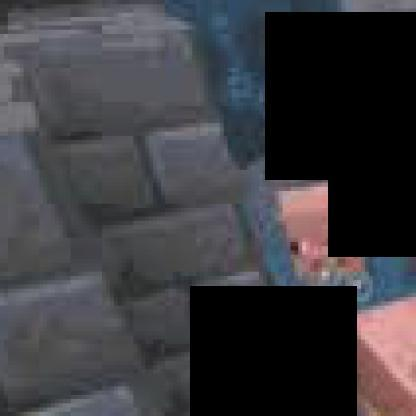minecraft-pigs: (268, 171, 373, 291), (330, 268, 413, 412)
